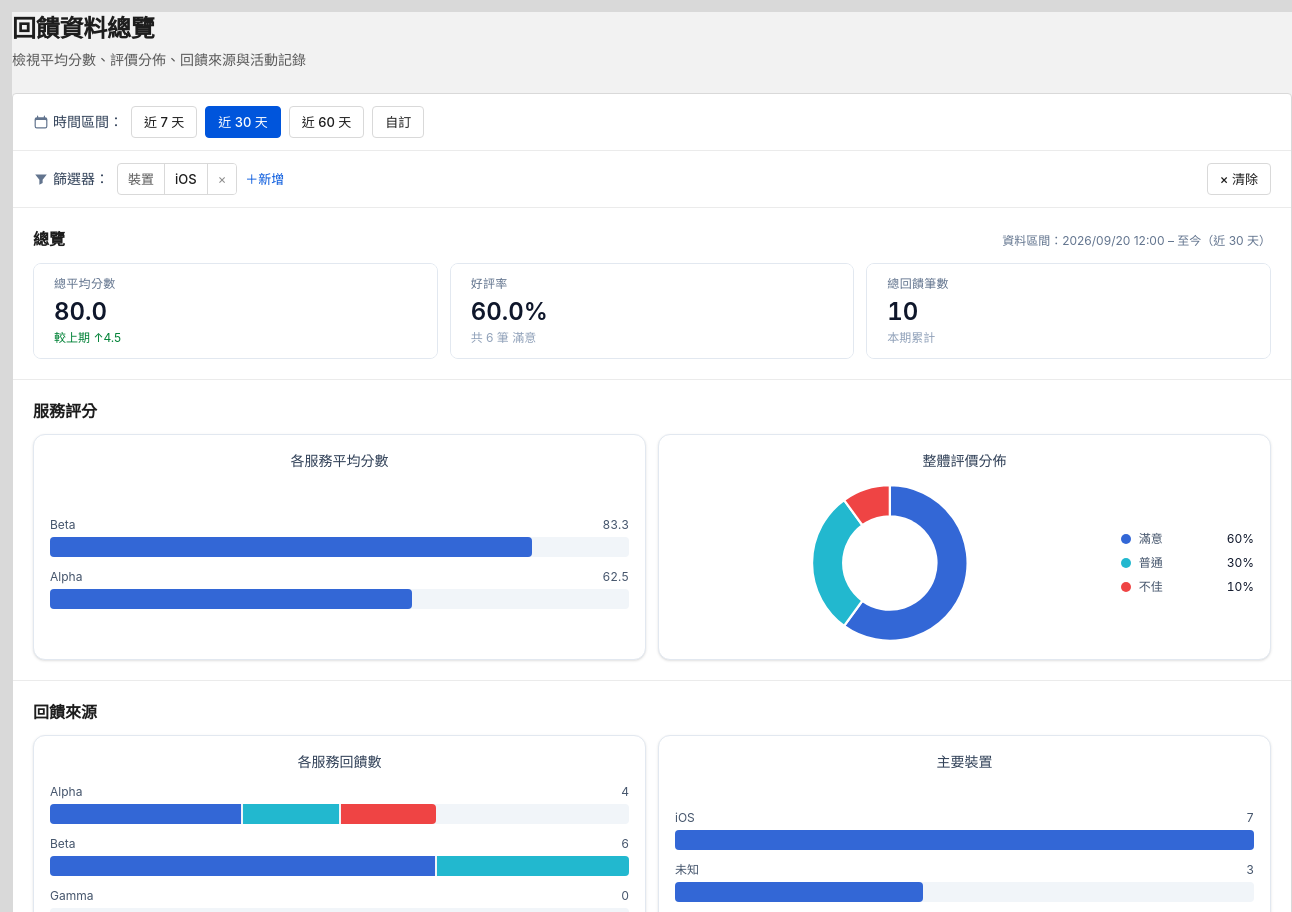
Scenario: FeedbackOverviewPage: time range › queries the last 7 days (and the 7 days before as the previous period) after clicking 近 7 天
Click the button "近 7 天" at (164, 122), box [131, 106, 197, 138]
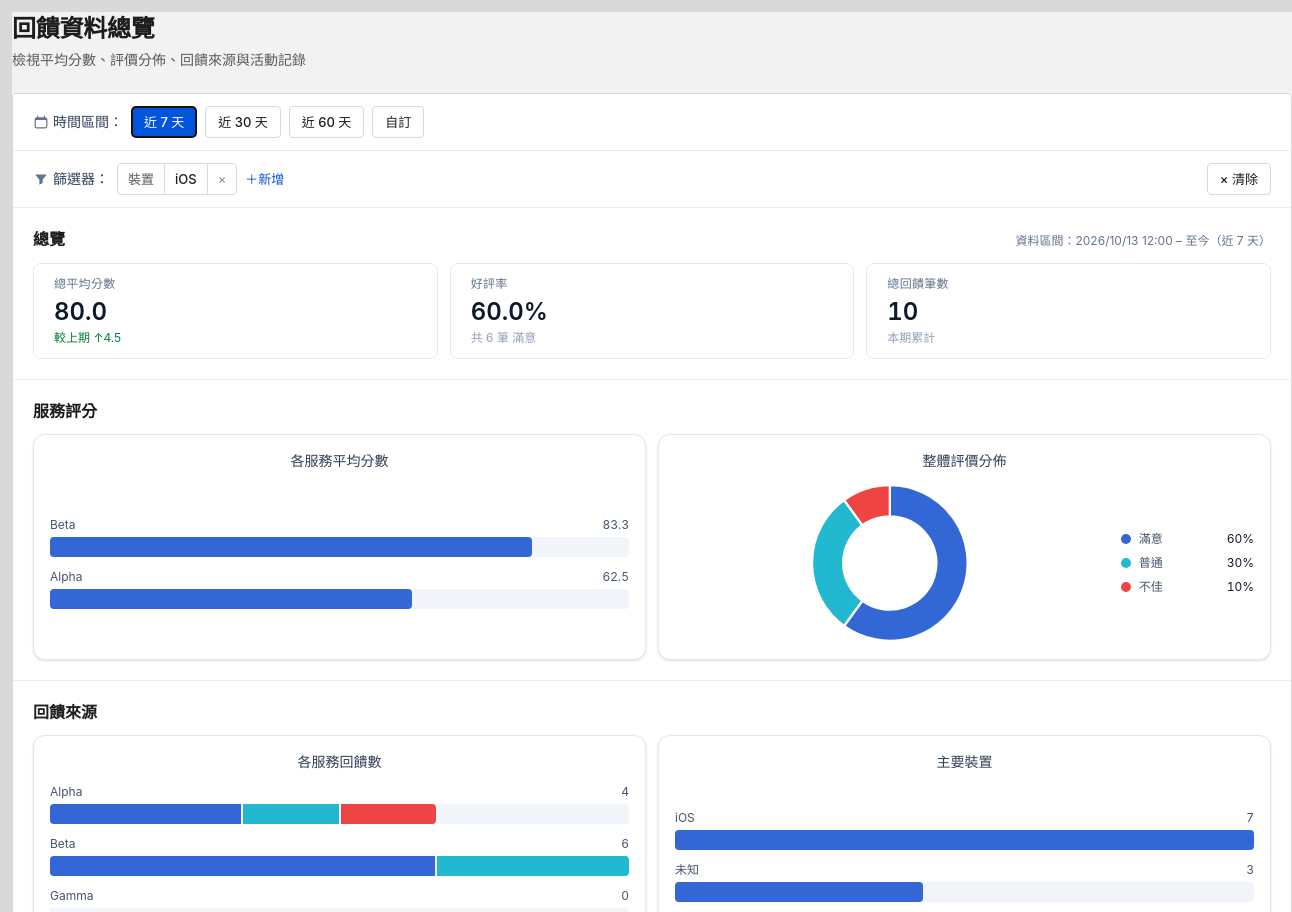
expect the text "資料區間：2026/10/13 12:00 – 至今（近 7 天）" is shown: met, box [1016, 233, 1271, 249]
